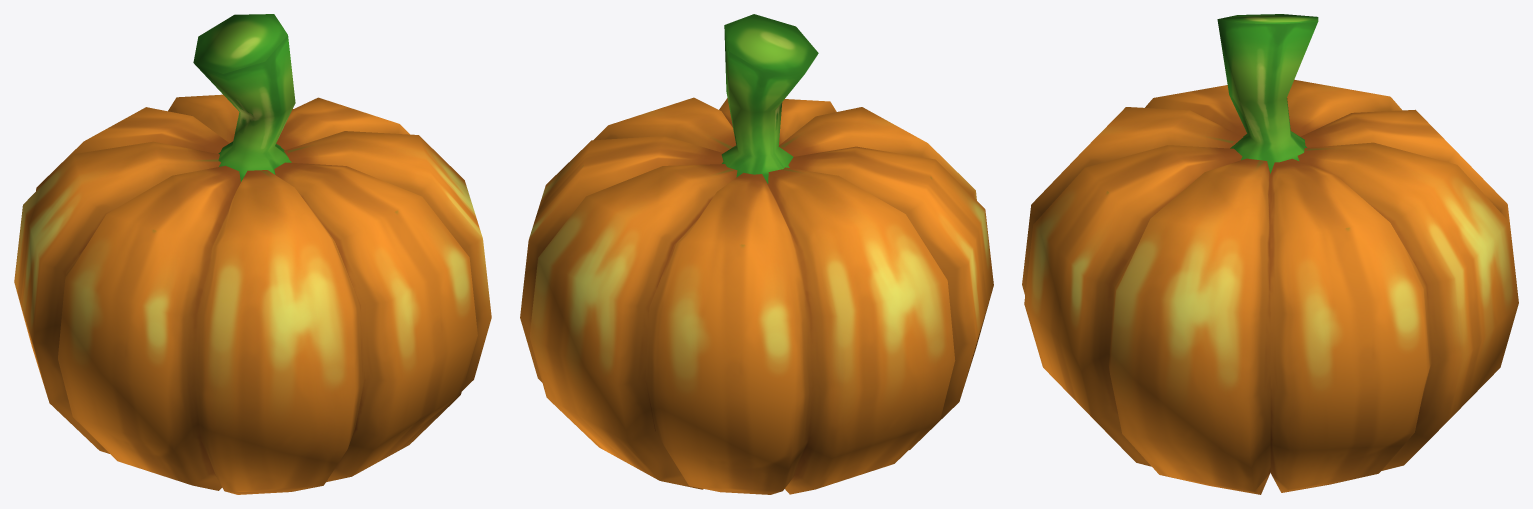
The model's file is pumpkin.fbx.
The picture shows the model from 3 angles, left to right: view 1: azimuth 30°, elevation 25°; view 2: azimuth 150°, elevation 25°; view 3: azimuth 270°, elevation 25°; orthographic projection. The views are drawn at different scales.
Parts seen in each view (by area): view 1: pumpkin; view 2: pumpkin; view 3: pumpkin.
Part boxes in pixels (bbox=[...]): pumpkin: bbox=[14, 14, 491, 494]; pumpkin: bbox=[520, 14, 993, 494]; pumpkin: bbox=[1022, 14, 1518, 494].
Bounding box in the file's own units: 4.23 × 4.18 × 4.23.
